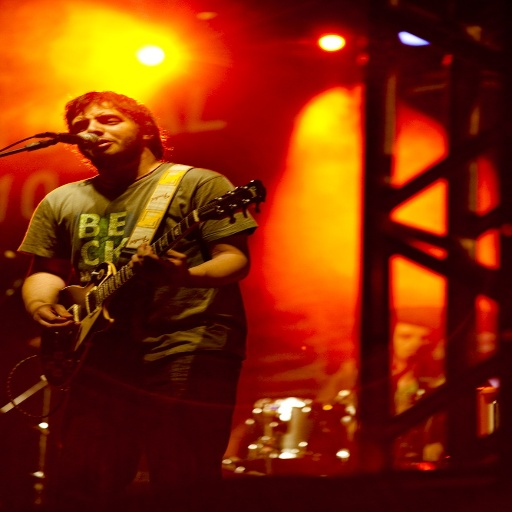hand: (153, 219, 266, 298), (125, 242, 191, 287), (29, 302, 75, 330)
